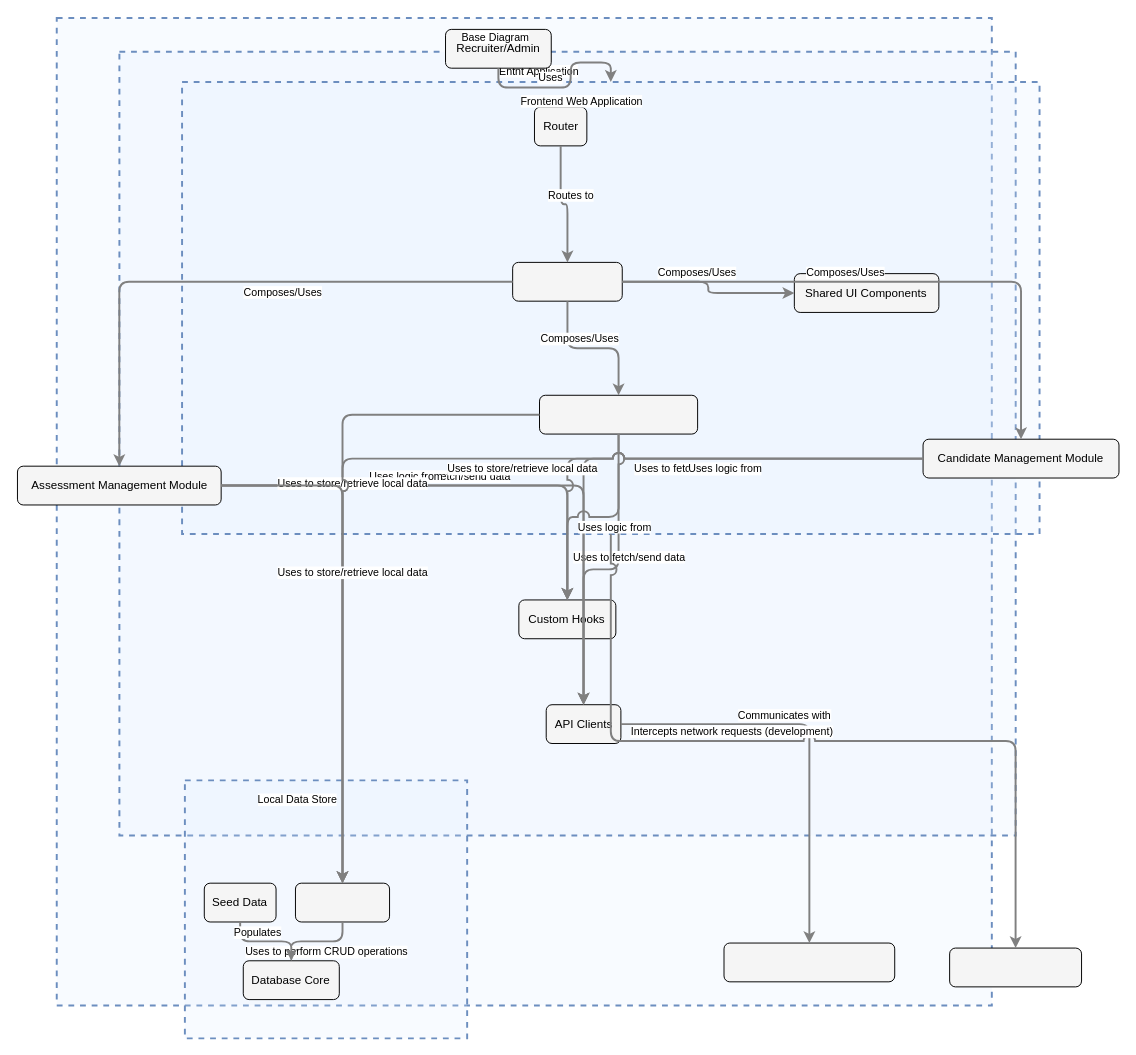
This 1136x1055 diagram has some shape labels left out. Here are the shapes that lost their labels. From the top down, the centre of each, then its label:
At point 567,281: "Main Application".
At point 618,414: "Job Management Module".
At point 342,902: "Data Handlers".
At point 809,962: "External Job/Candidate APIs".
At point 1015,967: "Mock Service Worker".
